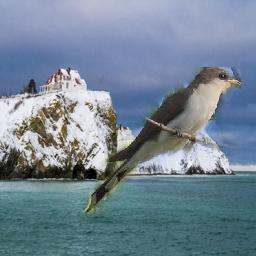Cuckoo: (83, 68, 241, 217)
